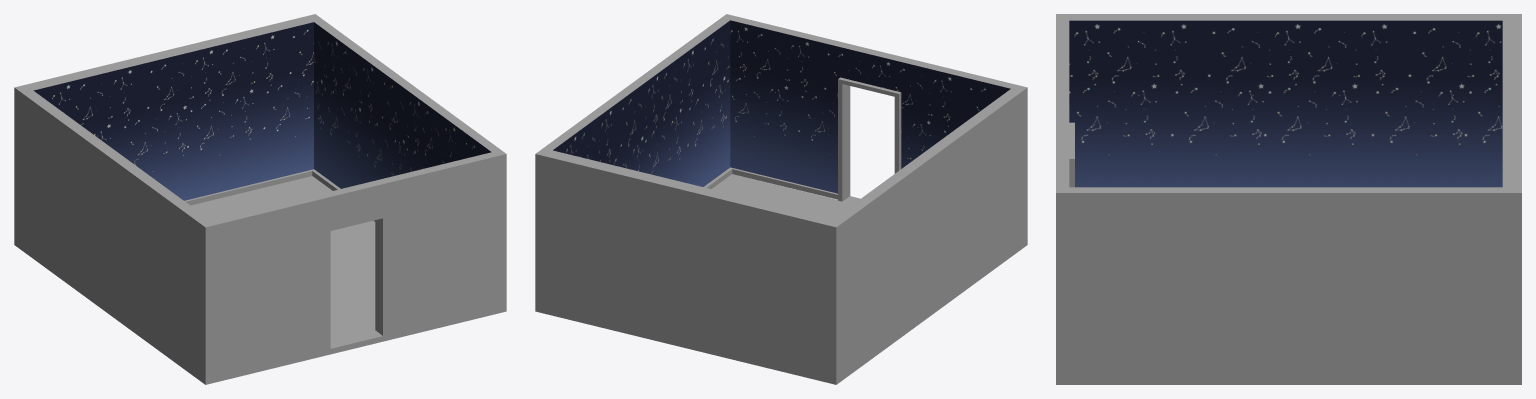
Rendered from nurse_room_with_wallpaper.fbx.
3 renders of one model, left to right at view 1: azimuth 30°, elevation 25°; view 2: azimuth 150°, elevation 25°; view 3: azimuth 270°, elevation 25°, orthographic. The views are drawn at different scales.
Visible parts, largest first — view 1: pCube9; view 2: pCube9; view 3: pCube9.
Boxes of the visible parts, box(x1,y1,x2,y2) form: pCube9: box(14, 14, 506, 384); pCube9: box(535, 14, 1027, 384); pCube9: box(1056, 14, 1521, 384).
Size of the model in its own units: 10 by 5 by 11.
